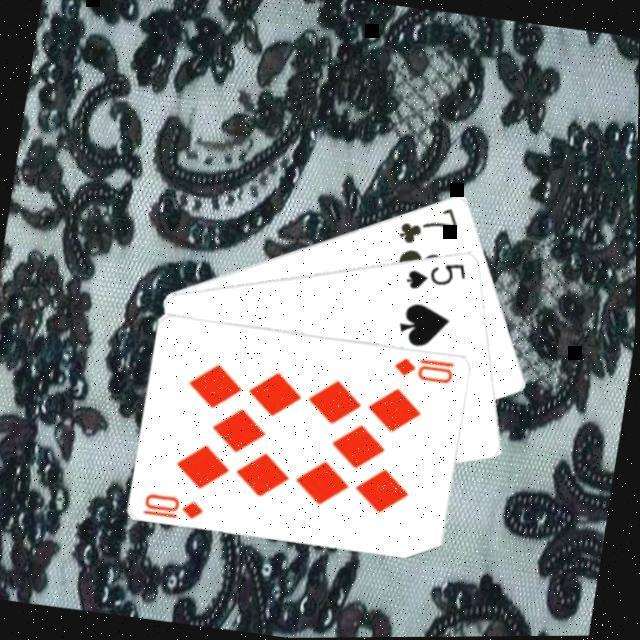10D: (393, 349, 461, 386), (143, 488, 212, 524)
5S: (404, 250, 474, 298)
7C: (396, 197, 466, 251)
